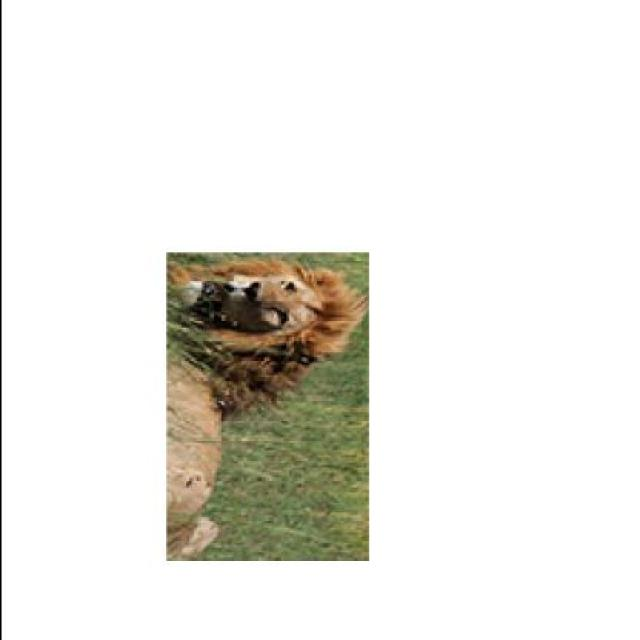Lion: (160, 250, 382, 408)
